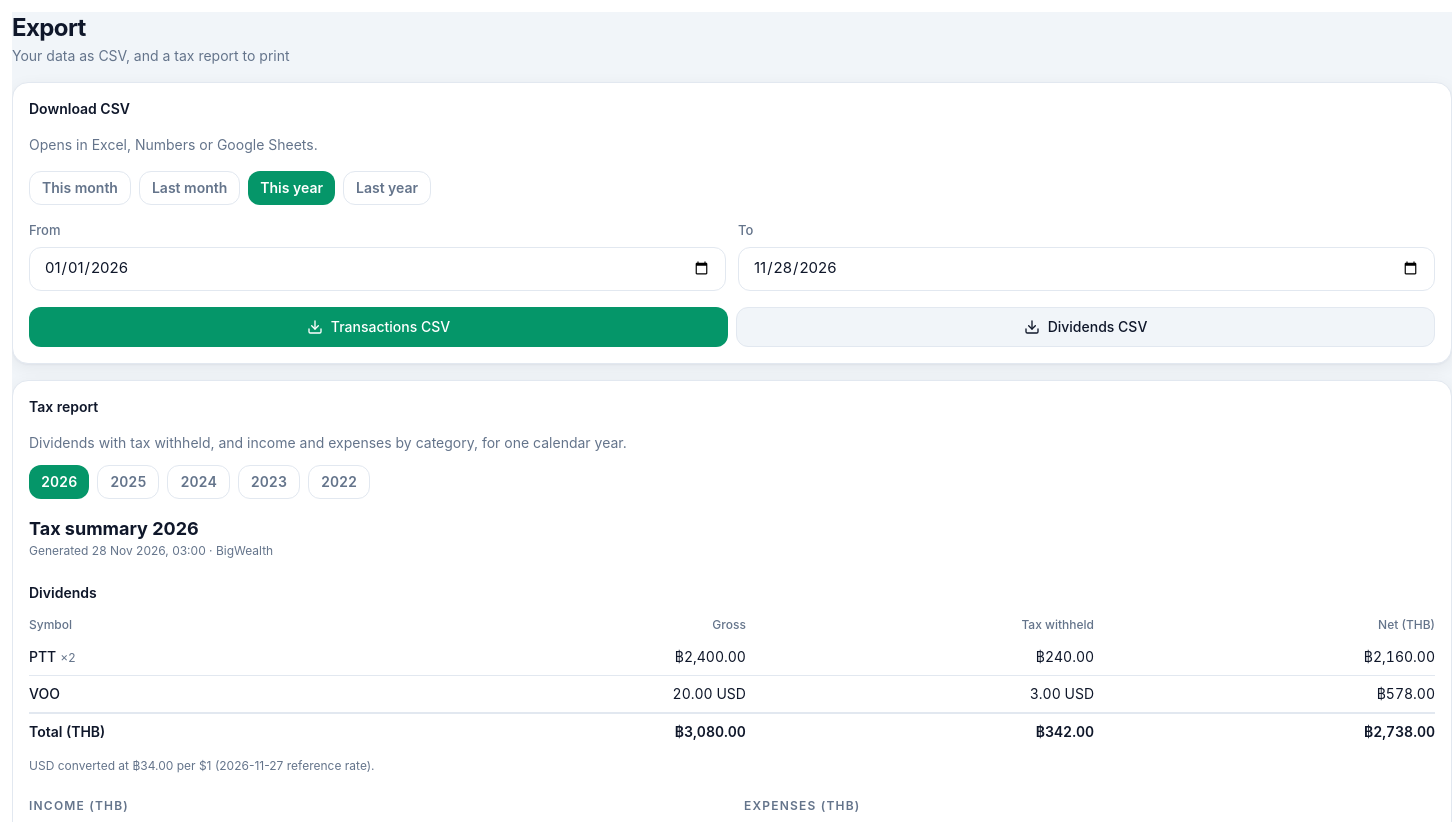
Scenario: Export page › shows the server error when a download fails
Click the button "Dividends CSV" at (1086, 326), box [736, 306, 1435, 346]
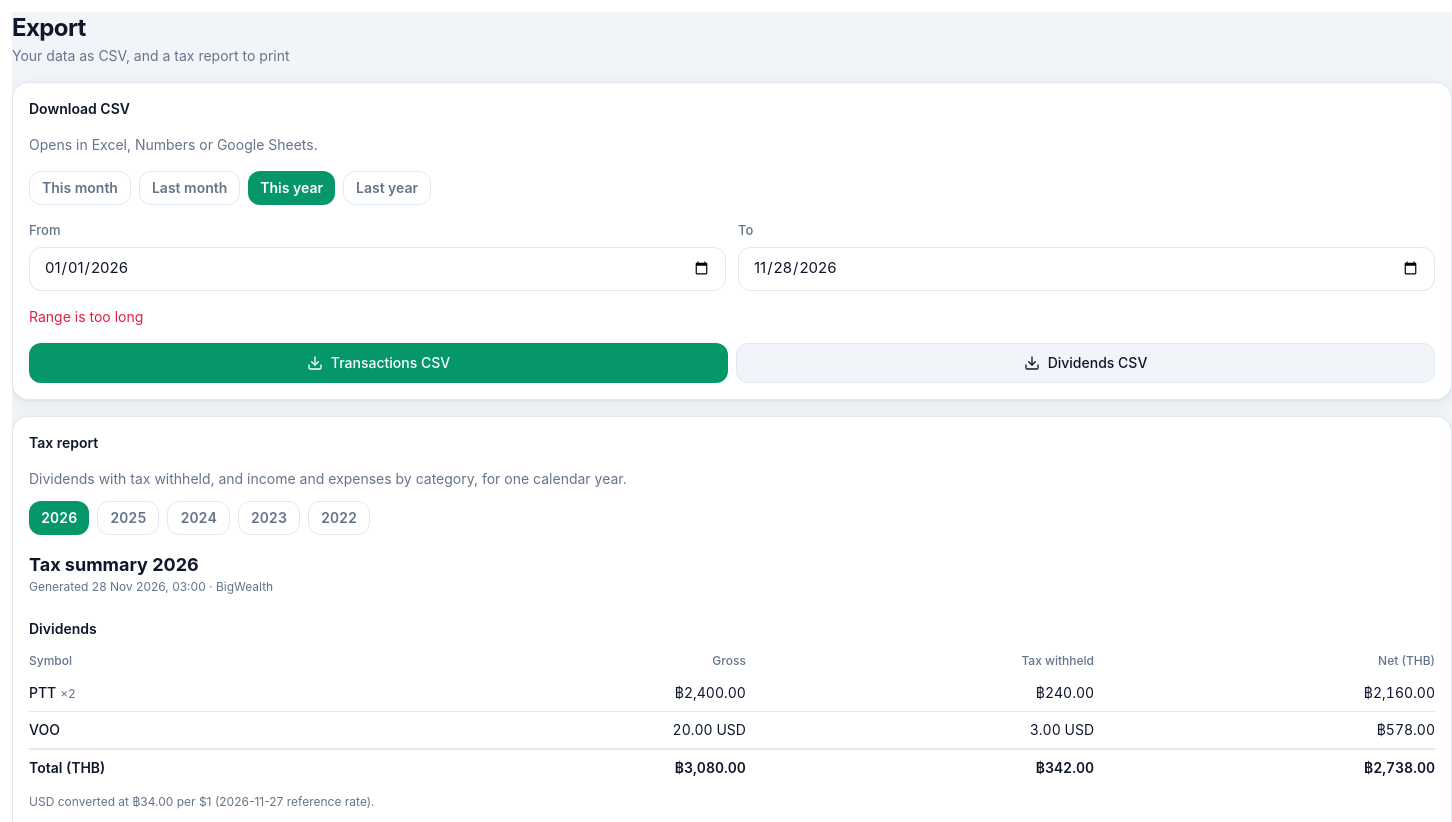
Check: the message reads "Range is too long", box [29, 308, 143, 324]
